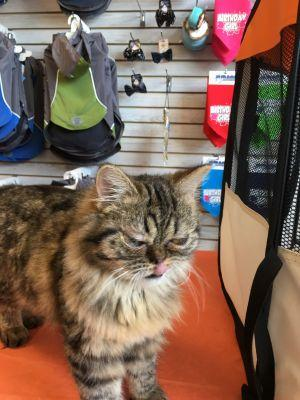persian: (75, 154, 212, 292)
